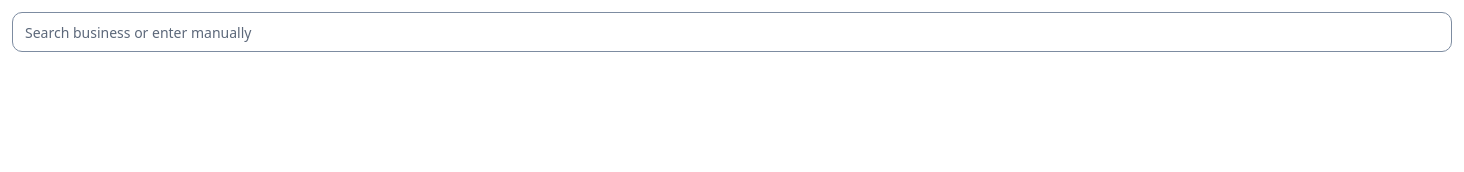
Scenario: company box on the job form › says nothing when it works, and clears the note when the box is emptied
Type "acme" into the field with placeholder "Search business or enter manually". click: (732, 32)
box: [12,12,1452,52]
Wait 500 ms
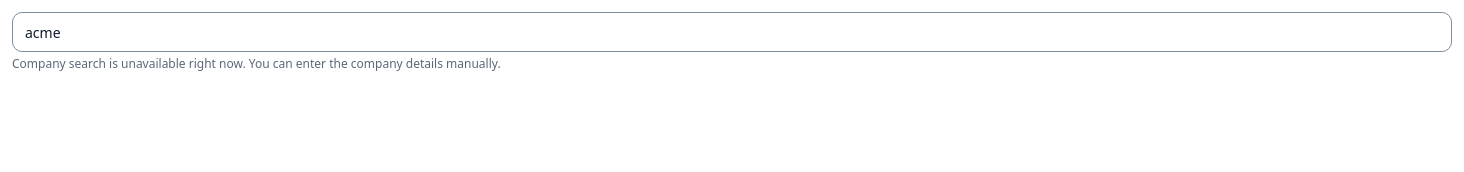
Expected: the message is shown, [12,55,501,72]
Replace the text in the field with placeholder "Search business or enter manually" with "ac". click: (732, 32)
box: [12,12,1452,52]
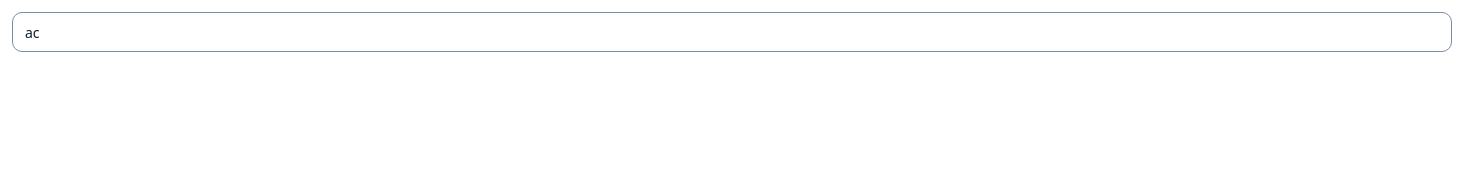
Expected: the message is gone
